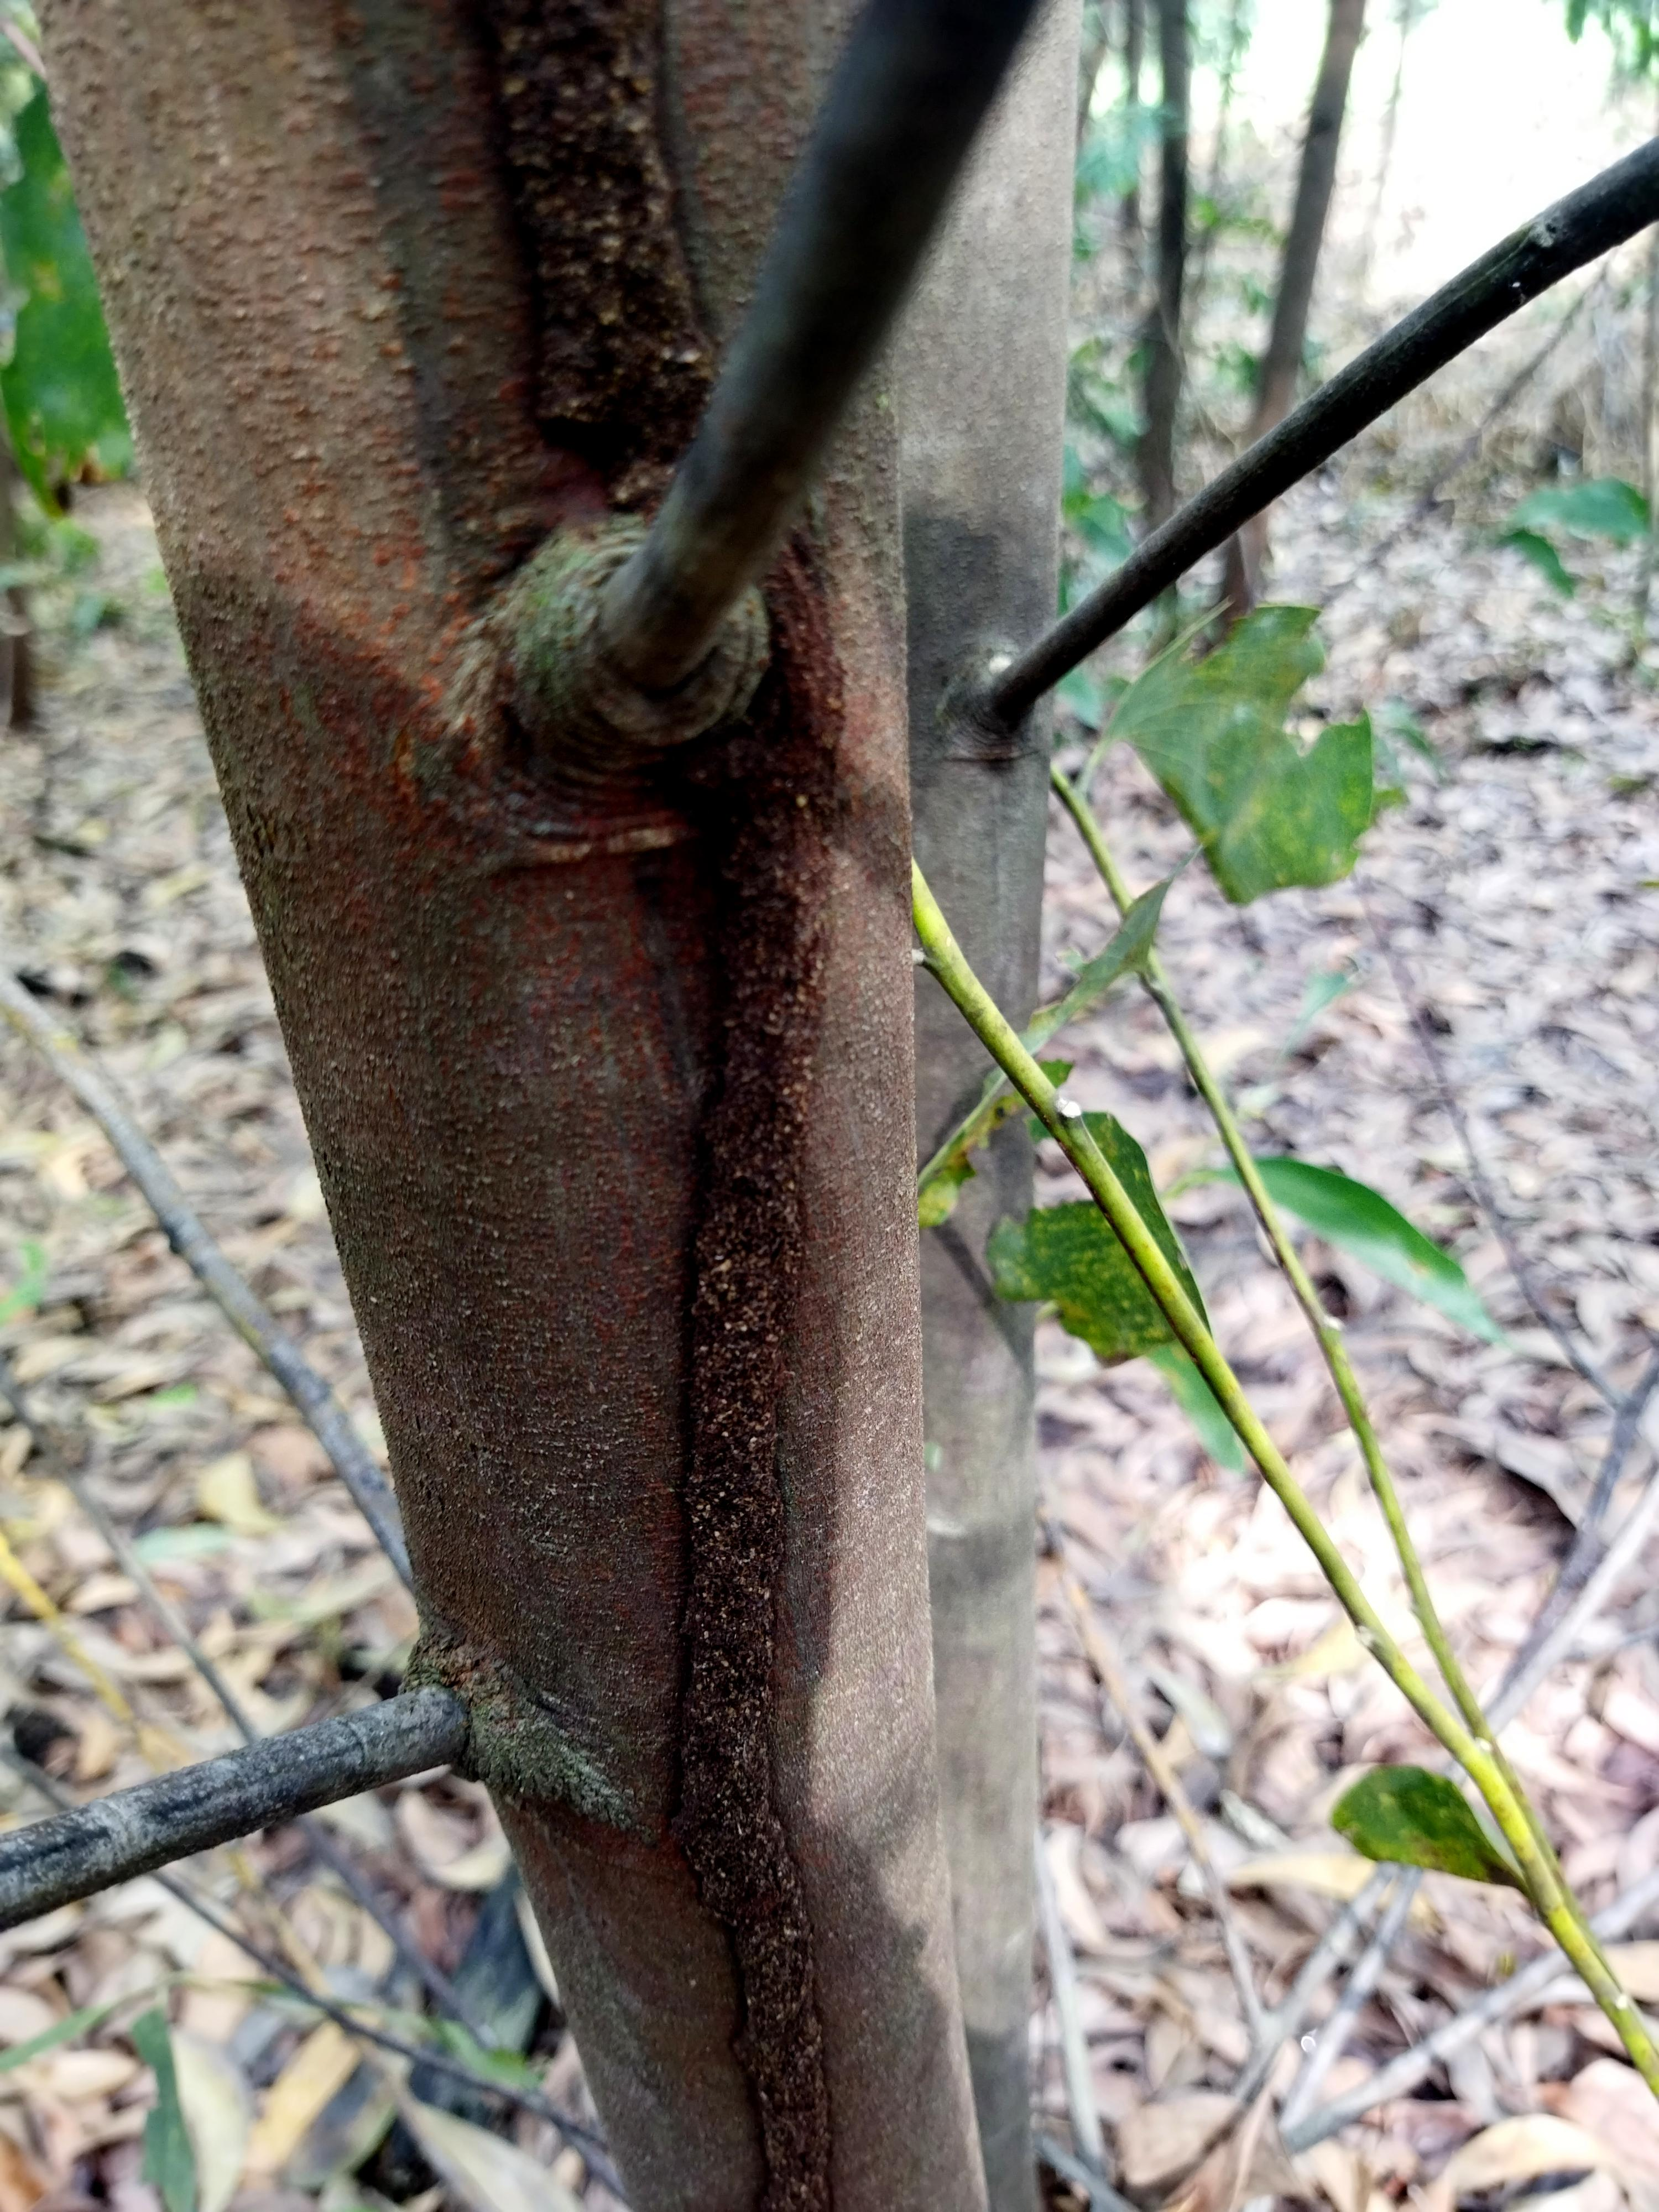Termite - Nest: (471, 0, 847, 2212)
